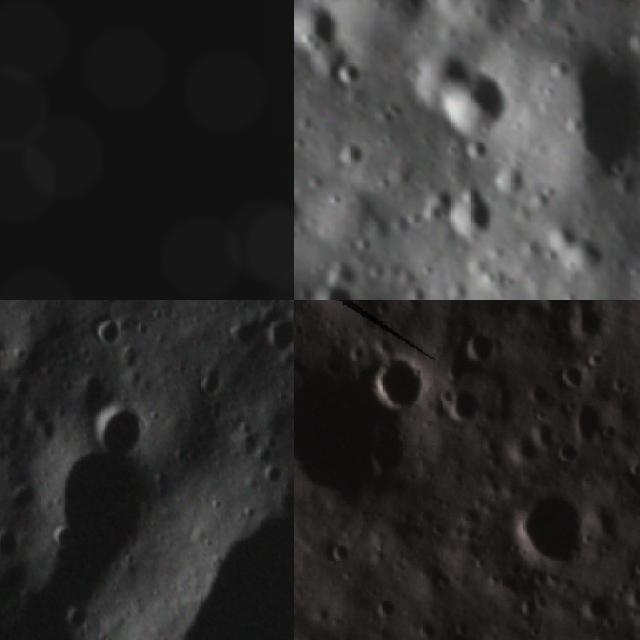crater: (511, 22, 640, 200), (148, 483, 294, 640), (28, 422, 184, 558), (294, 361, 420, 508), (423, 58, 532, 164), (391, 36, 482, 124), (503, 483, 590, 572), (0, 551, 86, 640), (539, 207, 620, 293), (434, 176, 511, 256), (81, 388, 161, 458), (335, 0, 464, 41), (294, 0, 359, 70), (366, 349, 426, 412), (408, 178, 467, 236), (438, 382, 492, 434), (332, 128, 381, 177), (456, 321, 506, 366), (327, 51, 372, 99), (566, 300, 609, 350), (294, 178, 322, 247), (309, 270, 372, 300), (569, 400, 611, 441), (89, 306, 126, 352), (578, 590, 621, 625), (0, 515, 32, 558), (263, 312, 294, 355), (260, 449, 293, 485), (560, 357, 596, 389), (9, 474, 38, 512), (233, 422, 264, 456), (195, 363, 224, 397), (527, 300, 584, 316), (527, 418, 556, 449), (326, 534, 352, 562)
